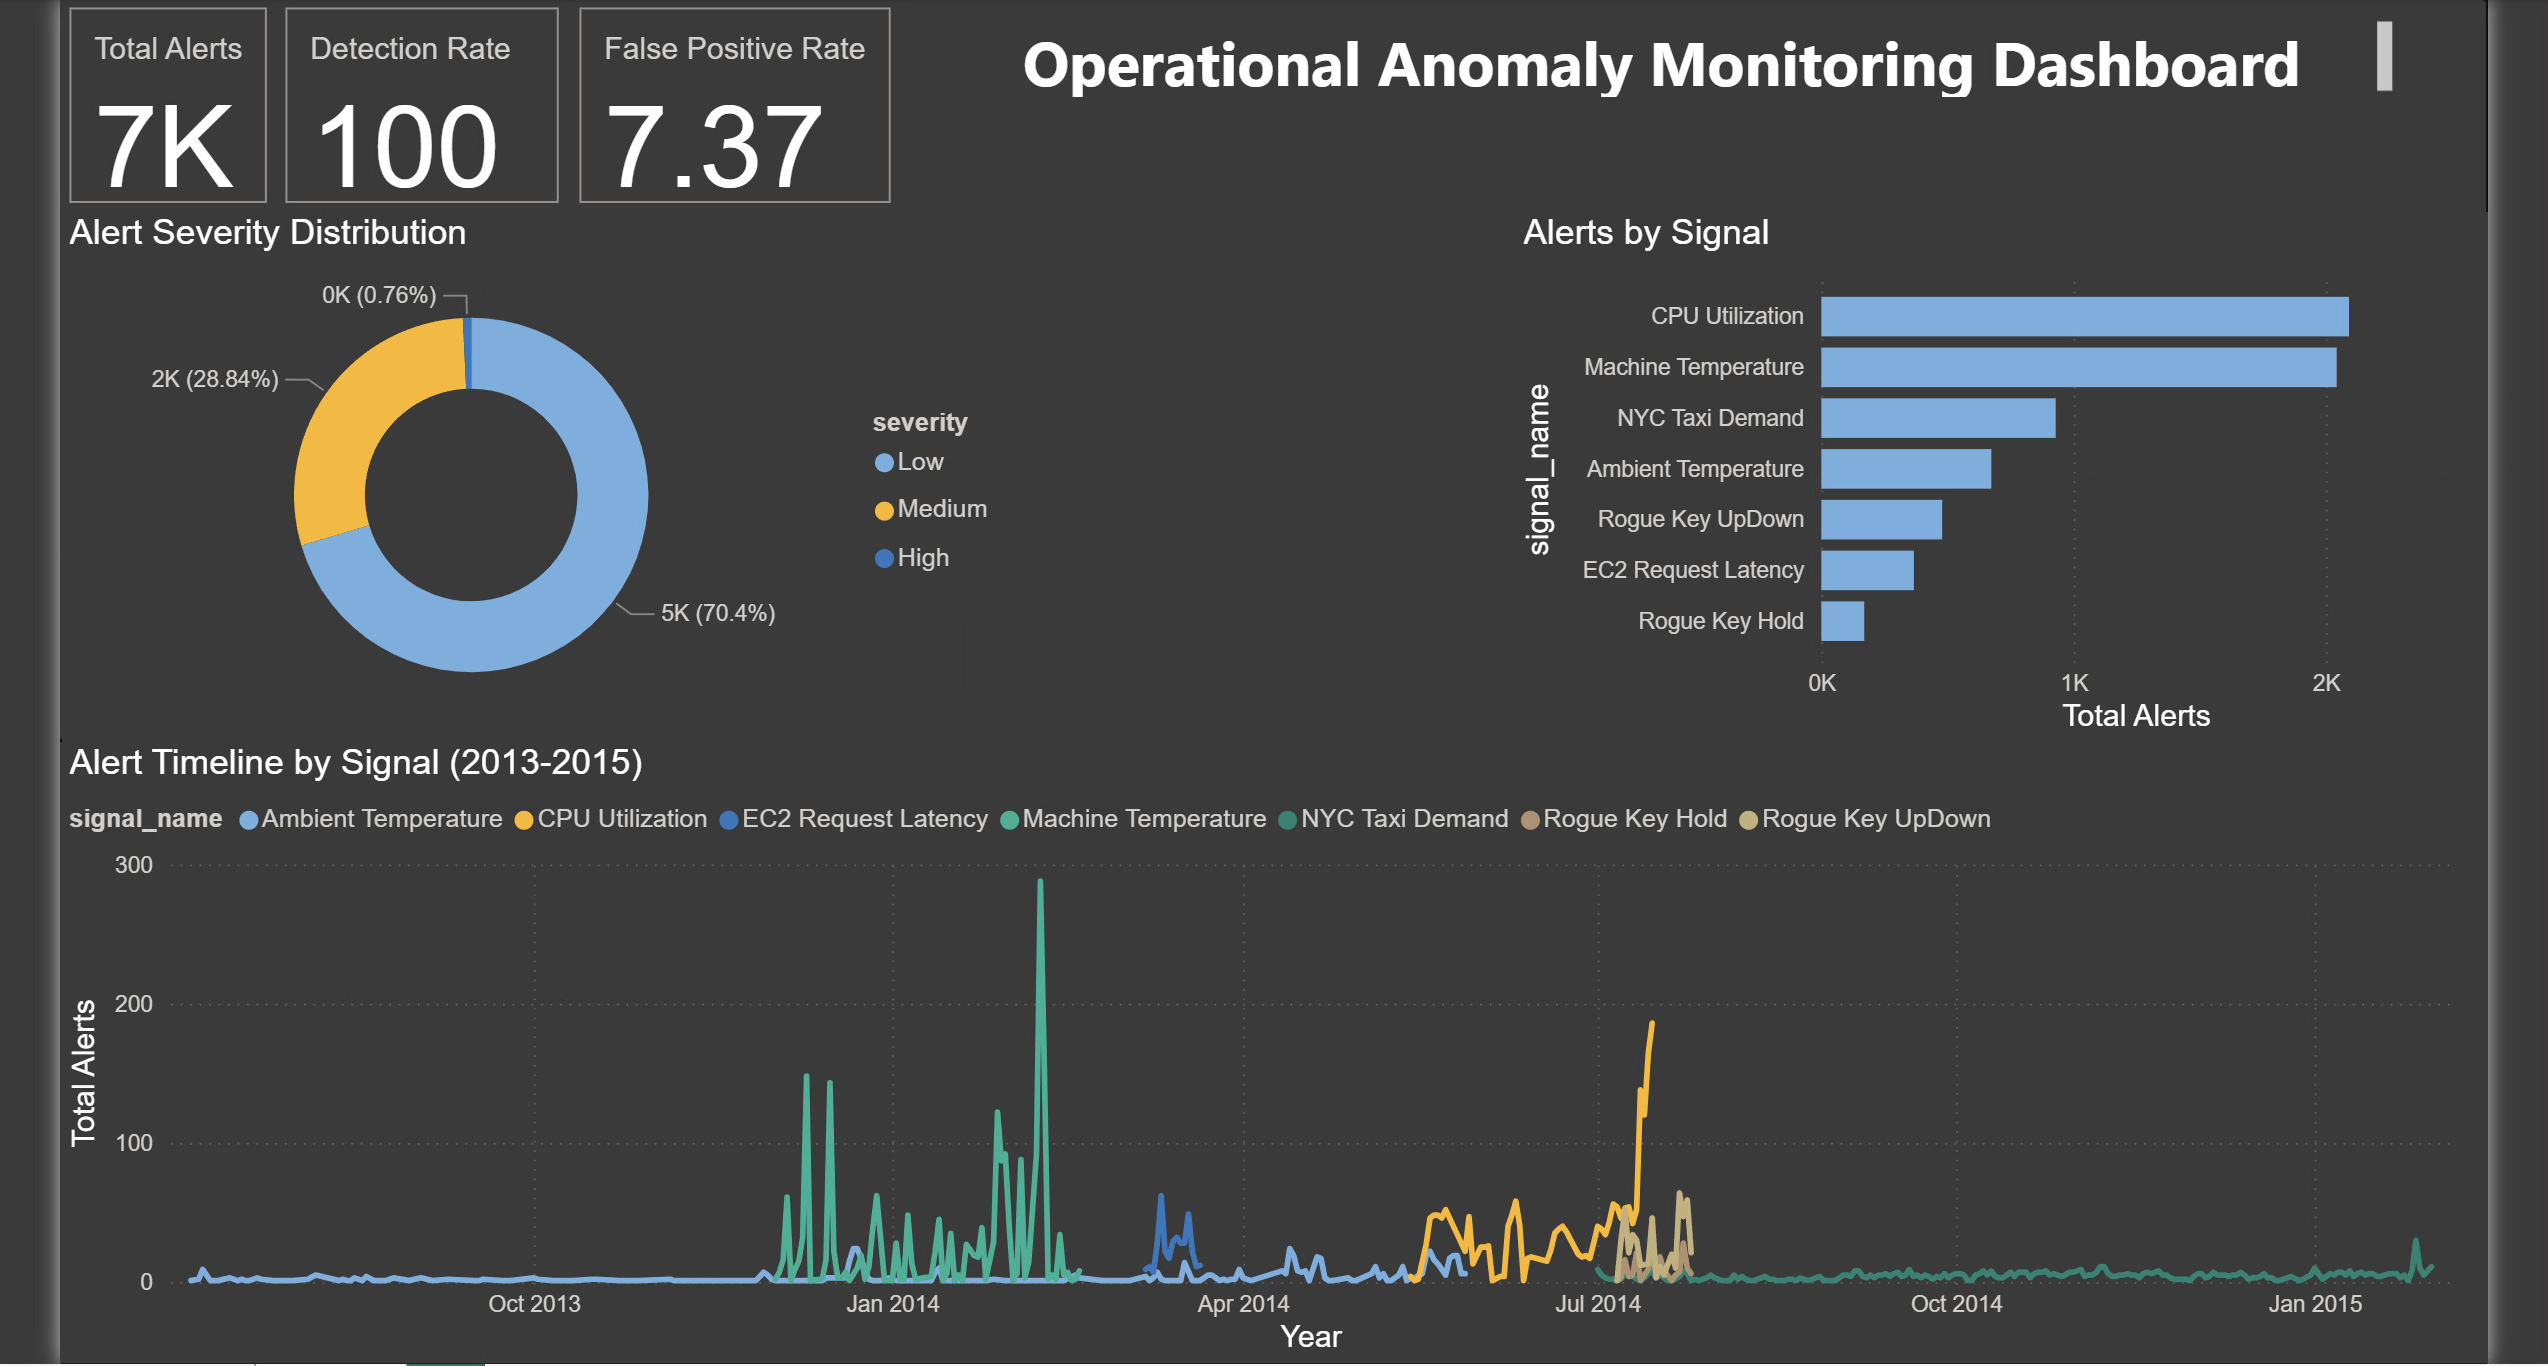

The page's visual inventory and layout, read from the dashboard file:
{"tool":"powerbi","page":{"name":"Page 1","canvas":[1280,720],"ordinal":0},"visuals":[{"type":"cardVisual","fields":{"Data":["anomaly_scored_output.Total Alerts"]},"box":[0,0,114.1,113.1],"z":0},{"type":"cardVisual","fields":{"Data":["anomaly_scored_output.Detection Rate"]},"box":[114.1,0,154.7,113.1],"z":1000},{"type":"cardVisual","fields":{"Data":["anomaly_scored_output.False Positive Rate"]},"box":[268.8,0,174.9,113.1],"z":2000},{"type":"donutChart","title":"Alert Severity Distribution","fields":{"Category":["anomaly_scored_output.severity"],"Y":["anomaly_scored_output.Total Alerts"]},"box":[242.5,112.8,503.9,277.2],"z":3000},{"type":"clusteredBarChart","title":"Alerts by Signal","fields":{"Category":["anomaly_scored_output.signal_name"],"Y":["anomaly_scored_output.Total Alerts"]},"box":[766.4,112.8,513.4,279.4],"z":4000},{"type":"lineChart","title":"Alert Timeline by Signal (2013-2015)","fields":{"Y":["anomaly_scored_output.Total Alerts"],"Series":["anomaly_scored_output.signal_name"],"Category":["anomaly_scored_output.timestamp.Variation.Date Hierarchy.Year","anomaly_scored_output.timestamp.Variation.Date Hierarchy.Quarter","anomaly_scored_output.timestamp.Variation.Date Hierarchy.Month","anomaly_scored_output.timestamp.Variation.Date Hierarchy.Day"]},"box":[242.5,392.2,1037.3,327.8],"z":5000},{"type":"textbox","box":[502.8,7.4,731.6,49.5],"z":6000},{"type":"slicer","title":"Filter by Signal","fields":{"Values":["anomaly_scored_output.signal_name"]},"box":[0,112.8,229.8,607.2],"z":6001}]}

Visuals, with their boxes on the page's 1280x720 design canvas (x1, y1, x2, y2). These are canvas units, not pixel positions in the 2548x1366 screenshot, which may show the page scaled, cropped or inside an application window:
cardVisual - anomaly_scored_output.Total Alerts: x1=0 y1=0 x2=114 y2=113
cardVisual - anomaly_scored_output.Detection Rate: x1=114 y1=0 x2=269 y2=113
cardVisual - anomaly_scored_output.False Positive Rate: x1=269 y1=0 x2=444 y2=113
"Alert Severity Distribution" donutChart: x1=242 y1=113 x2=746 y2=390
"Alerts by Signal" clusteredBarChart: x1=766 y1=113 x2=1280 y2=392
"Alert Timeline by Signal (2013-2015)" lineChart: x1=242 y1=392 x2=1280 y2=720
textbox: x1=503 y1=7 x2=1234 y2=57
"Filter by Signal" slicer: x1=0 y1=113 x2=230 y2=720
